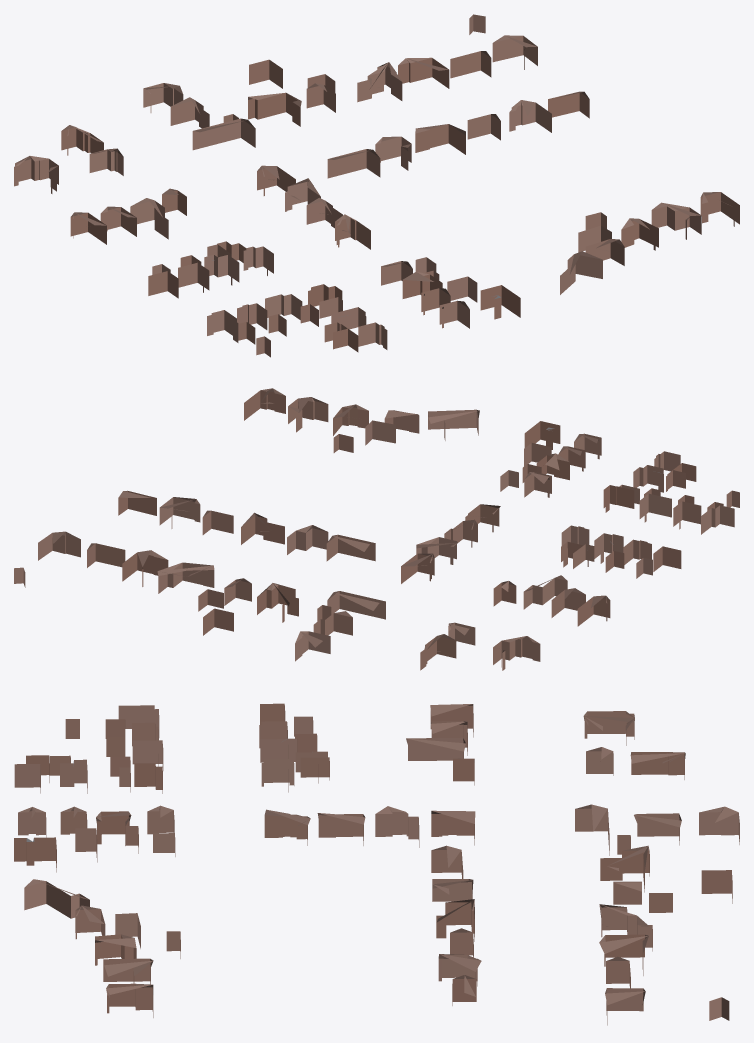
Rendered from c_1647_17830_buildings_residential.glb.
The picture shows the model from 3 angles, top to bottom: view 1: azimuth 30°, elevation 25°; view 2: azimuth 150°, elevation 25°; view 3: azimuth 270°, elevation 25°; orthographic projection. The views are drawn at different scales.
Parts seen in each view (by area): view 1: geometry_0; view 2: geometry_0; view 3: geometry_0.
Boxes of the visible parts, x1,y1,x2,y2 form: geometry_0: [14, 14, 739, 357]; geometry_0: [14, 388, 739, 670]; geometry_0: [14, 703, 739, 1025].
Size of the model in its own units: 261 by 10.94 by 266.
